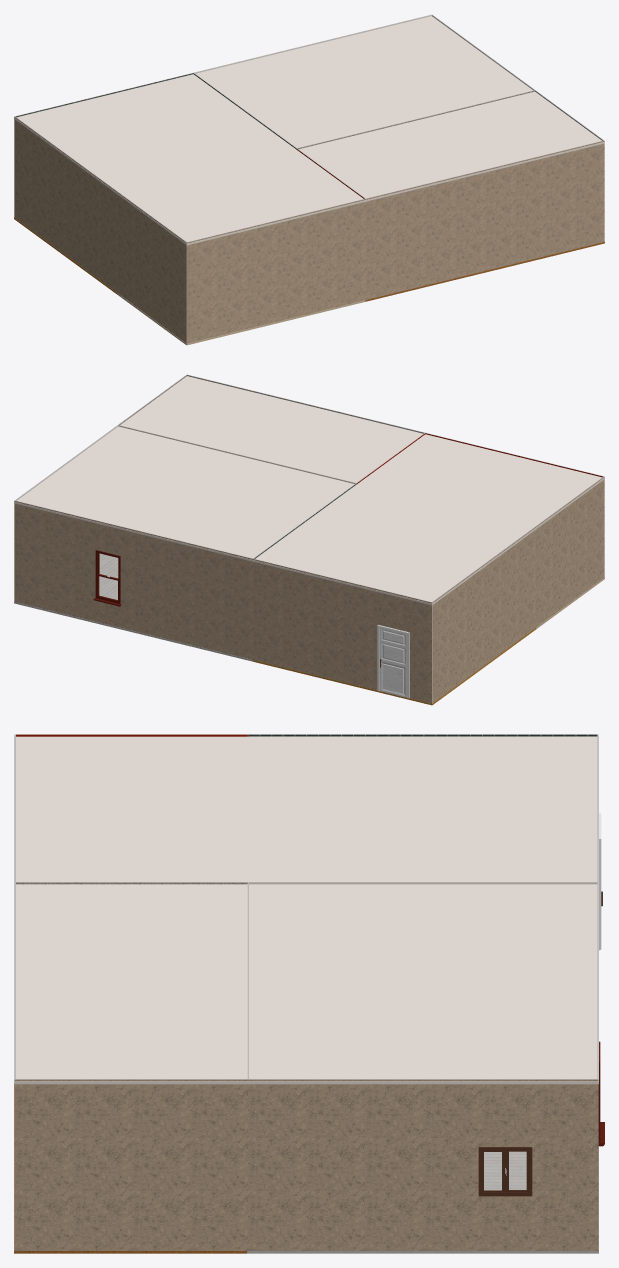
The model's file is ProcTHOR-Train-134.glb.
3 views of the same model, one above another, from view 1: azimuth 30°, elevation 25°; view 2: azimuth 150°, elevation 25°; view 3: azimuth 270°, elevation 25° (orthographic). The views are drawn at different scales.
Parts seen in each view (by area): view 1: WallInside#wall|exterior|0.00|9.95|7.96|9.95, Ceiling#room|4|c, WallInside#wall|exterior|7.96|9.95|13.93|9.95, Ceiling#room|6|c, Ceiling#room|5|c, Ceiling#room|7|c, WallInside#wall|exterior|13.93|0.00|13.93|5.97, WallInside#wall|exterior|13.93|5.97|13.93|9.95, Floor#room|7|f, Floor#room|5|f, WallInside#wall|4|0.00|0.00|7.96|0.00, WallInside#wall|5|0.00|5.97|7.96|5.97; view 2: Ceiling#room|4|c, WallInside#wall|exterior|0.00|0.00|7.96|0.00, Ceiling#room|6|c, WallInside#wall|exterior|7.96|0.00|13.93|0.00, Ceiling#room|5|c, Ceiling#room|7|c, WallInside#wall|exterior|13.93|0.00|13.93|5.97, WallInside#wall|exterior|13.93|5.97|13.93|9.95, Doorway_8, Floor#room|4|f, Floor#room|6|f, Window_Hung_32x60 (+2 smaller); view 3: Ceiling#room|4|c, WallInside#wall|exterior|0.00|0.00|0.00|5.97, Ceiling#room|6|c, Ceiling#room|5|c, WallInside#wall|exterior|0.00|5.97|0.00|9.95, Ceiling#room|7|c, Floor#room|4|f, Window_Slider_36x36, WallInside#wall|6|13.93|0.00|13.93|5.97, WallInside#wall|4|7.96|0.00|7.96|5.97, Floor#room|5|f, WallInside#wall|7|13.93|5.97|13.93|9.95 (+1 smaller).
Part boxes in pixels (<box>): WallInside#wall|exterior|0.00|9.95|7.96|9.95: <box>365,140,604,299</box>; Ceiling#room|4|c: <box>195,16,532,148</box>; WallInside#wall|exterior|7.96|9.95|13.93|9.95: <box>186,199,366,343</box>; Ceiling#room|6|c: <box>14,74,296,194</box>; Ceiling#room|5|c: <box>297,92,604,201</box>; Ceiling#room|7|c: <box>117,149,366,245</box>; WallInside#wall|exterior|13.93|0.00|13.93|5.97: <box>14,116,117,292</box>; WallInside#wall|exterior|13.93|5.97|13.93|9.95: <box>117,192,186,343</box>; Floor#room|7|f: <box>117,293,366,345</box>; Floor#room|5|f: <box>365,242,604,301</box>; WallInside#wall|4|0.00|0.00|7.96|0.00: <box>194,15,431,73</box>; WallInside#wall|5|0.00|5.97|7.96|5.97: <box>297,90,534,149</box>; Ceiling#room|4|c: <box>14,426,356,561</box>; WallInside#wall|exterior|0.00|0.00|7.96|0.00: <box>14,500,253,659</box>; Ceiling#room|6|c: <box>252,484,536,605</box>; WallInside#wall|exterior|7.96|0.00|13.93|0.00: <box>252,559,432,703</box>; Ceiling#room|5|c: <box>120,376,423,483</box>; Ceiling#room|7|c: <box>357,434,604,528</box>; WallInside#wall|exterior|13.93|0.00|13.93|5.97: <box>432,527,535,703</box>; WallInside#wall|exterior|13.93|5.97|13.93|9.95: <box>535,476,604,627</box>; Doorway_8: <box>377,625,409,698</box>; Floor#room|4|f: <box>14,553,253,661</box>; Floor#room|6|f: <box>253,628,536,705</box>; Window_Hung_32x60: <box>93,550,121,606</box>; Ceiling#room|4|c: <box>247,884,598,1084</box>; WallInside#wall|exterior|0.00|0.00|0.00|5.97: <box>247,1079,598,1250</box>; Ceiling#room|6|c: <box>247,736,598,884</box>; Ceiling#room|5|c: <box>14,884,249,1084</box>; WallInside#wall|exterior|0.00|5.97|0.00|9.95: <box>14,1079,248,1250</box>; Ceiling#room|7|c: <box>14,736,249,884</box>; Floor#room|4|f: <box>247,1146,598,1253</box>; Window_Slider_36x36: <box>478,1147,532,1196</box>; WallInside#wall|6|13.93|0.00|13.93|5.97: <box>247,734,597,736</box>; WallInside#wall|4|7.96|0.00|7.96|5.97: <box>248,882,598,884</box>; Floor#room|5|f: <box>14,1084,247,1253</box>; WallInside#wall|7|13.93|5.97|13.93|9.95: <box>16,734,248,736</box>.
Size of what is drawn, in the model's own units: 13.99 by 3.29 by 10.09.
299 materials, 150 textured.
